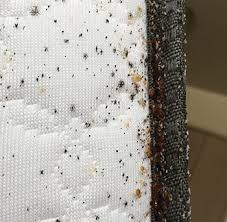bed-matress: (1, 1, 193, 222)
